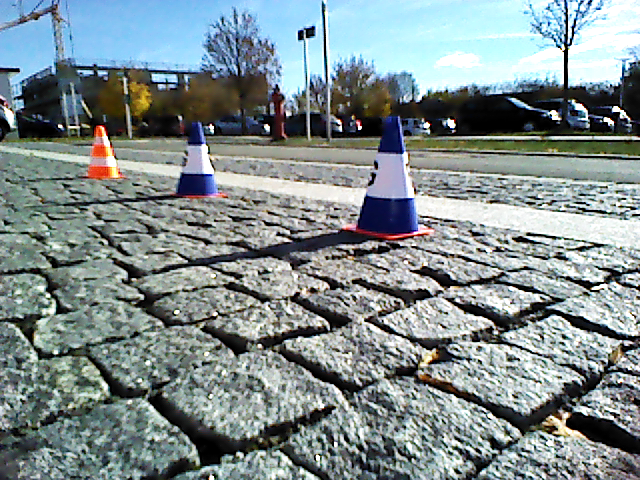bluecone: (359, 116, 416, 231), (178, 123, 217, 194)
orangeconesmall: (86, 126, 123, 179)
